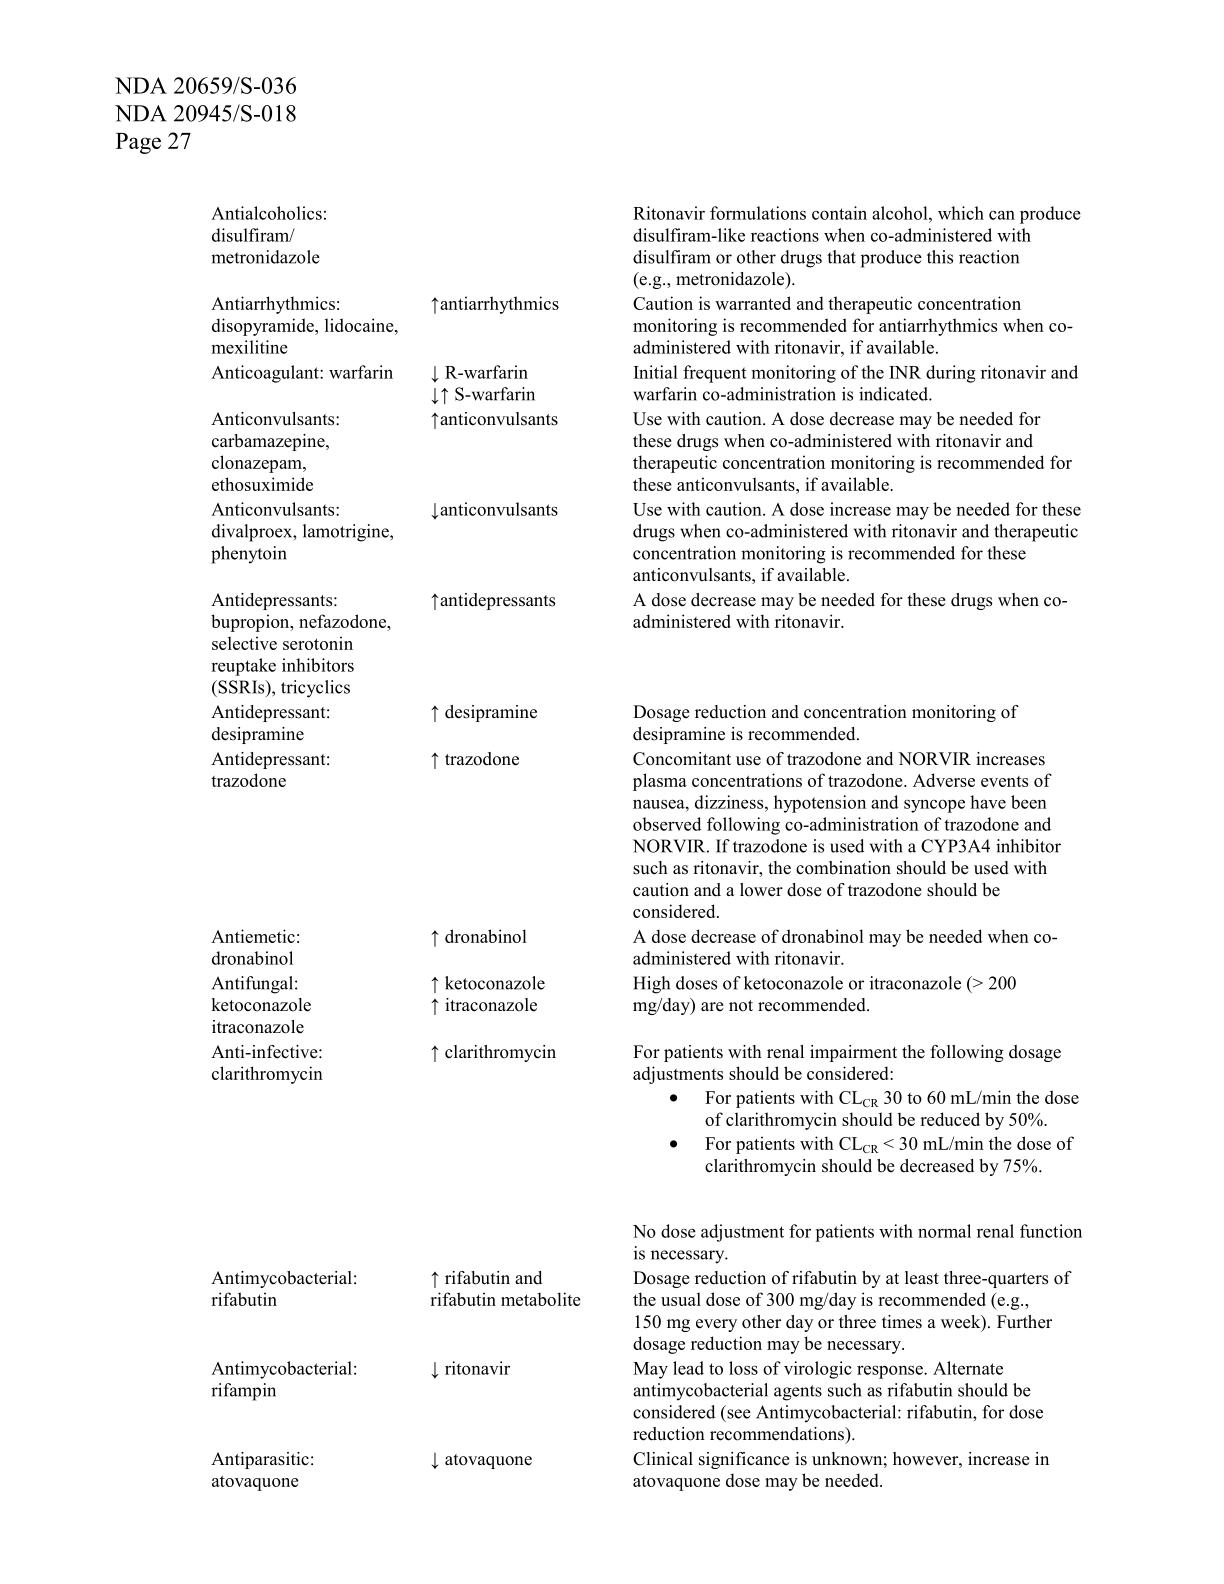nolines: (204, 195, 1086, 1491)
